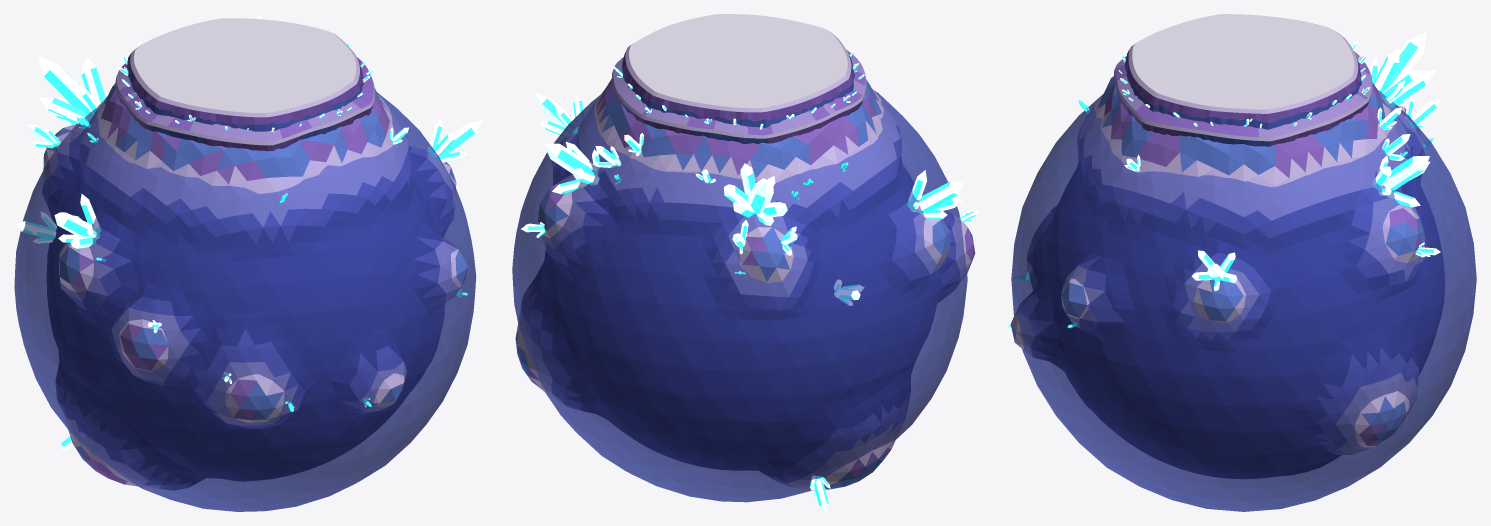
The model's file is 07_Prismara.glb.
The picture shows the model from 3 angles, left to right: view 1: azimuth 30°, elevation 25°; view 2: azimuth 150°, elevation 25°; view 3: azimuth 270°, elevation 25°; orthographic projection. The views are drawn at different scales.
Parts seen in each view (by area): view 1: Prismara_Ocean, Prismara_Body, Prismara_BuildArea, Prismara_Deco_CrystalsLarge, Prismara_Terraces, Prismara_Deco_CrystalsMedium; view 2: Prismara_Body, Prismara_Ocean, Prismara_BuildArea, Prismara_Deco_CrystalsLarge, Prismara_Terraces, Prismara_Deco_CrystalsMedium; view 3: Prismara_Ocean, Prismara_Body, Prismara_BuildArea, Prismara_Terraces, Prismara_Deco_CrystalsLarge, Prismara_Deco_CrystalsMedium.
Part boxes in pixels (x1,y1,x2,y2): Prismara_Ocean: [14, 92, 476, 511]; Prismara_Body: [42, 83, 467, 490]; Prismara_BuildArea: [127, 18, 363, 131]; Prismara_Deco_CrystalsLarge: [15, 14, 483, 248]; Prismara_Terraces: [115, 57, 374, 151]; Prismara_Deco_CrystalsMedium: [27, 58, 409, 450]; Prismara_Body: [515, 78, 975, 489]; Prismara_Ocean: [512, 90, 967, 502]; Prismara_BuildArea: [621, 14, 854, 127]; Prismara_Deco_CrystalsLarge: [535, 93, 963, 305]; Prismara_Terraces: [612, 49, 866, 144]; Prismara_Deco_CrystalsMedium: [521, 133, 979, 511]; Prismara_Ocean: [1011, 90, 1476, 511]; Prismara_Body: [1010, 76, 1444, 478]; Prismara_BuildArea: [1125, 14, 1361, 129]; Prismara_Terraces: [1114, 51, 1372, 146]; Prismara_Deco_CrystalsLarge: [1192, 32, 1436, 291]; Prismara_Deco_CrystalsMedium: [1124, 81, 1440, 257].
Bounding box in the file's own units: 2.16 × 2.04 × 2.01.
